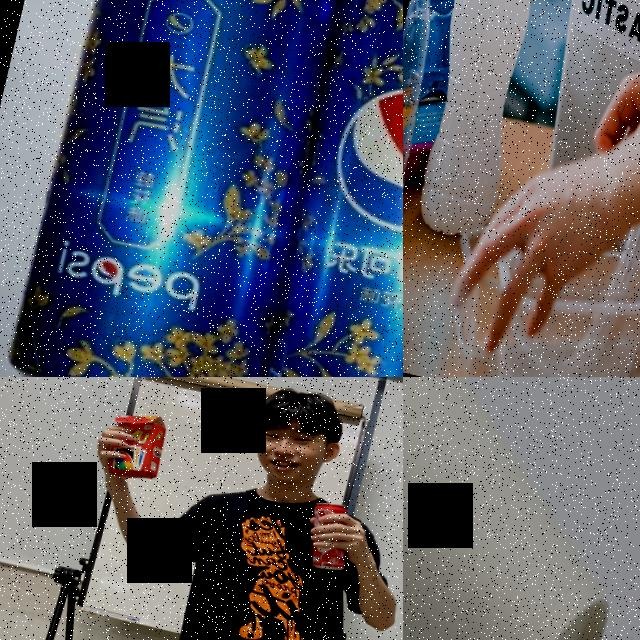bottle: (403, 0, 563, 245)
can: (0, 0, 362, 377), (236, 0, 403, 377), (300, 498, 360, 575)
cup: (403, 377, 640, 640)
